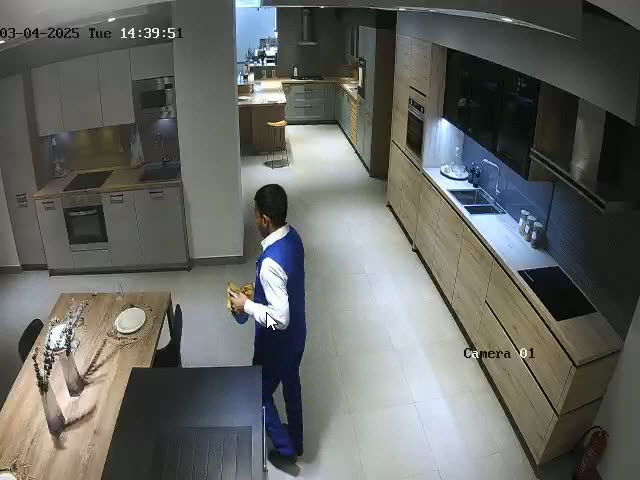employee: (227, 183, 307, 468)
